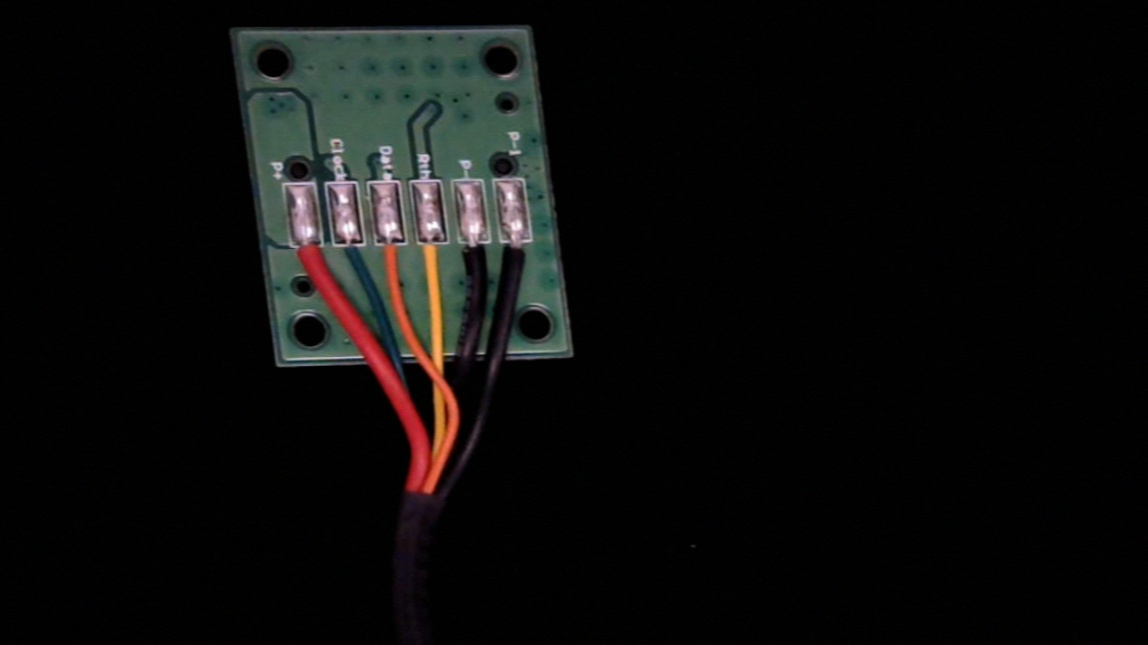Black: (458, 231, 497, 295)
Black1: (499, 230, 541, 297)
Green: (332, 230, 371, 284)
Orange: (372, 230, 414, 294)
Red: (288, 232, 332, 295)
Yellow: (416, 230, 455, 294)
